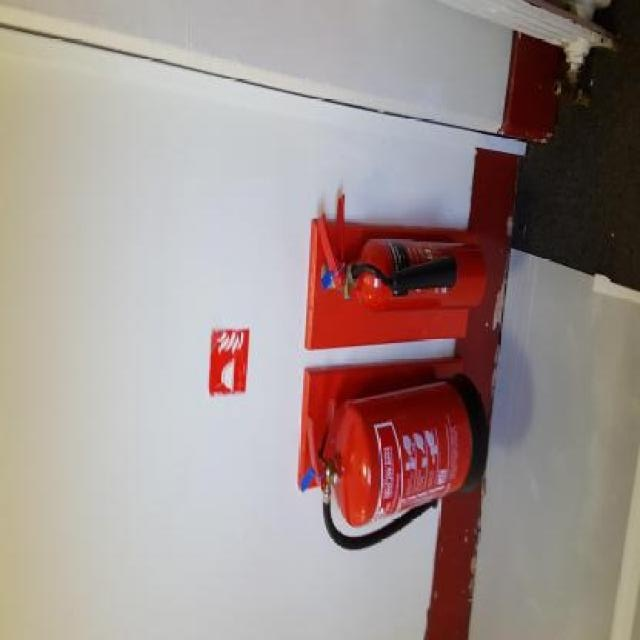fire extinguisher: (310, 375, 492, 568), (305, 200, 489, 349)
